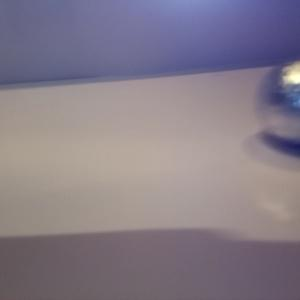alive_ball: (256, 58, 300, 145)
